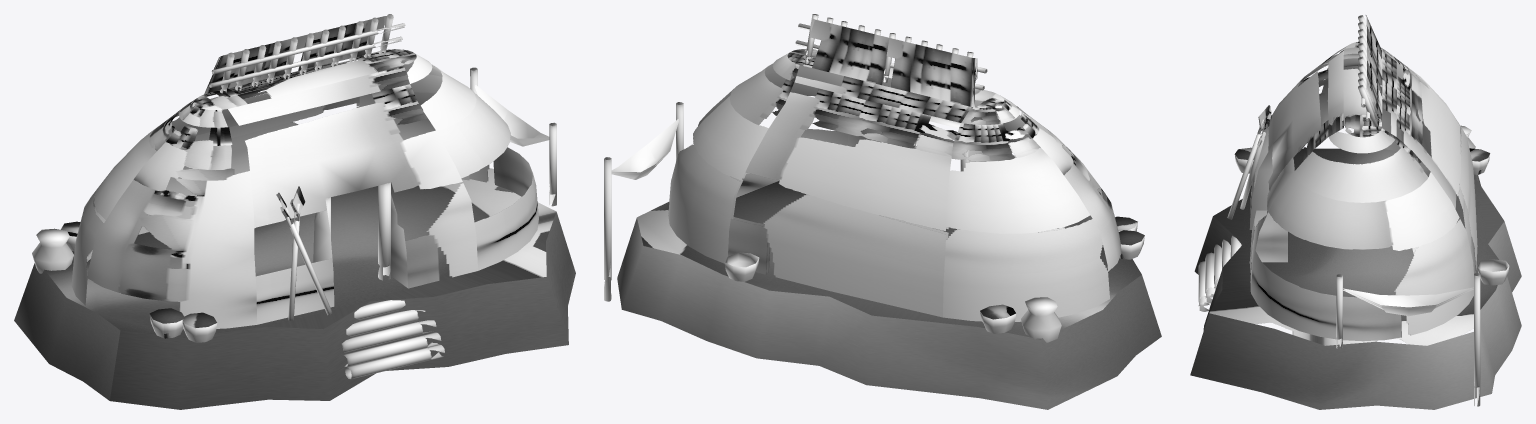
Rendered from house_1.dae.
3 renders of one model, left to right at view 1: azimuth 30°, elevation 25°; view 2: azimuth 150°, elevation 25°; view 3: azimuth 270°, elevation 25°, orthographic. The views are drawn at different scales.
Visible parts, largest first — view 1: house_1; view 2: house_1; view 3: house_1.
Part boxes in pixels (x1,y1,x2,y2): house_1: (14,14,575,409); house_1: (604,14,1161,409); house_1: (1190,15,1521,409).
Size of the model in its own units: 27.62 by 18.05 by 15.28.
